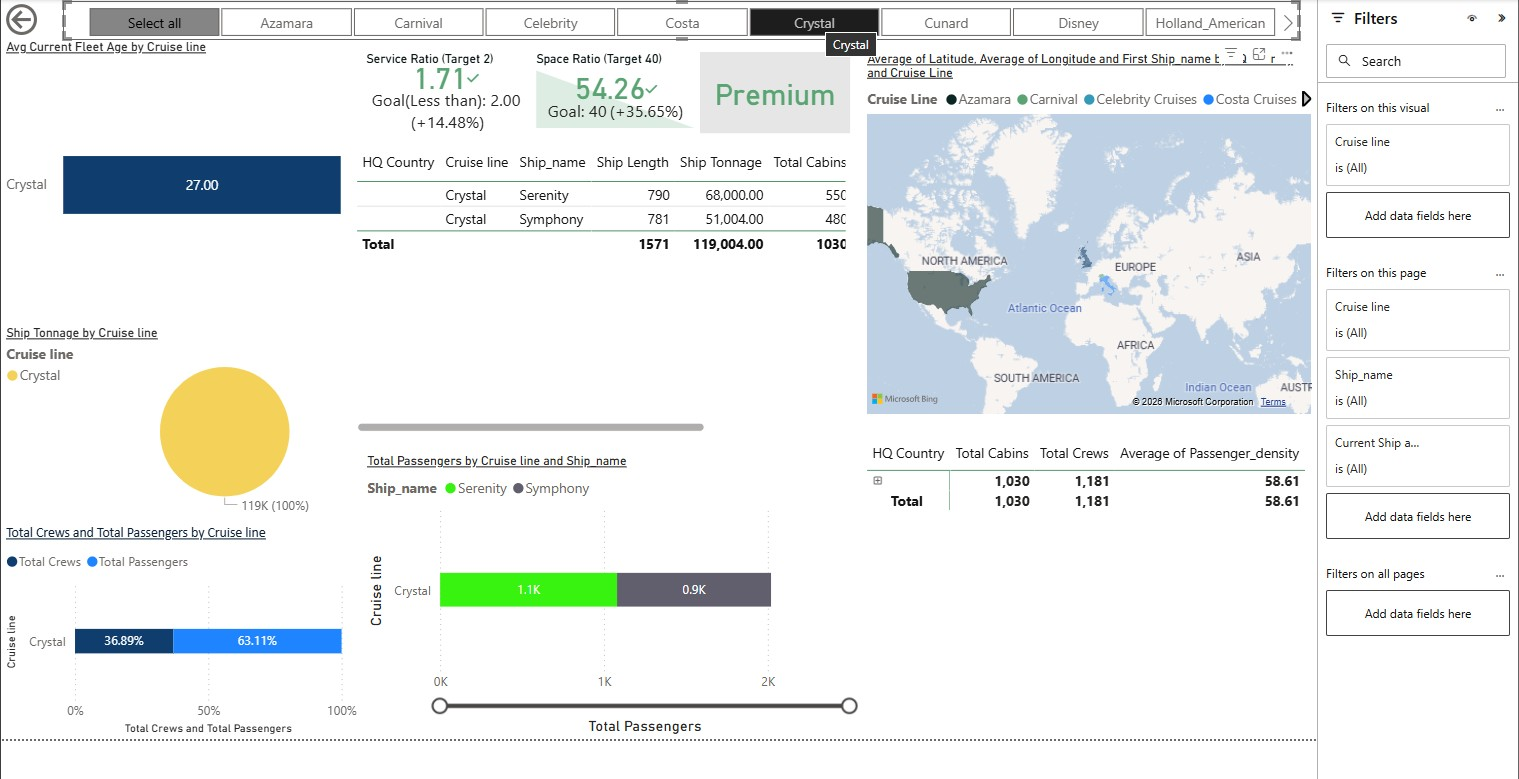

The dashboard page shown, as its layout file describes it:
{"tool":"powerbi","page":{"name":"Cruise line Dashboard","canvas":[1280,720],"ordinal":0},"visuals":[{"type":"barChart","fields":{"Category":["cruise_ship_info.Cruise_line"],"Y":["cruise_ship_info.Total Passengers"],"Series":["cruise_ship_info.Ship_name"]},"box":[351.1,442.6,486.3,277.2],"z":0},{"type":"pieChart","fields":{"Category":["cruise_ship_info.Cruise_line"],"Y":["cruise_ship_info.Ship Tonnage"]},"box":[0,318.1,351.1,192.6],"z":1000},{"type":"tableEx","fields":{"Values":["Cruise_HQ_Locations.HQ Country","cruise_ship_info.Cruise_line","cruise_ship_info.Ship_name","cruise_ship_info.Ship Length","cruise_ship_info.Ship Tonnage","cruise_ship_info.Total Cabins","cruise_ship_info.Total Crews","cruise_ship_info.Total Passengers"]},"box":[340.4,141,486.3,285],"z":2000},{"type":"funnel","fields":{"Category":["cruise_ship_info.Cruise_line"],"Y":["cruise_ship_info.Avg Current Fleet Age"]},"box":[0,39.9,340.4,268.4],"z":3000},{"type":"actionButton","box":[0,0,100,40],"z":4000},{"type":"hundredPercentStackedBarChart","fields":{"Category":["cruise_ship_info.Cruise_line"],"Y":["cruise_ship_info.Total Crews","cruise_ship_info.Total Passengers"]},"box":[0,510.4,351.3,209.2],"z":5000},{"type":"filledMap","fields":{"Y":["Avg(Cruise_HQ_Locations.Latitude)"],"X":["Avg(Cruise_HQ_Locations.Longitude)"],"Category":["Cruise_HQ_Locations.HQ Country"],"Series":["Cruise_HQ_Locations.Cruise Line"]},"box":[837.6,51.4,442.4,357],"z":6000},{"type":"pivotTable","fields":{"Rows":["Cruise_HQ_Locations.HQ Country","cruise_ship_info.Cruise line","cruise_ship_info.Ship_name"],"Values":["cruise_ship_info.Total Cabins","cruise_ship_info.Total Crews","Avg(cruise_ship_info.Passenger_density)"]},"box":[837.6,426,442.4,294.3],"z":7000},{"type":"kpi","title":"Service Ratio (Target 2)","fields":{"Indicator":["cruise_ship_info.Service Ratio"],"Goal":["cruise_ship_info.Service Target"],"TrendLine":["cruise_ship_info.Cruise line"]},"box":[349.8,51.4,165.7,79.2],"z":8000},{"type":"kpi","title":"Space Ratio (Target 40)","fields":{"Indicator":["cruise_ship_info.Space Ratio"],"TrendLine":["cruise_ship_info.Ship_name"],"Goal":["cruise_ship_info.Space Target"]},"box":[515.5,51.4,164.6,79.2],"z":9000},{"type":"card","fields":{"Values":["cruise_ship_info.Premium Status"]},"box":[679.9,51.6,145.9,78.8],"z":10000},{"type":"slicer","fields":{"Values":["cruise_ship_info.Cruise line"]},"box":[60.3,1.9,1203.2,37.9],"z":11000}]}

Visuals, with their boxes in screenshot pixels (x1, y1, x2, y2):
barChart - cruise_ship_info.Cruise_line x cruise_ship_info.Total Passengers: [left=361, top=416, right=862, bottom=701]
pieChart - cruise_ship_info.Cruise_line x cruise_ship_info.Ship Tonnage: [left=0, top=288, right=361, bottom=486]
tableEx - Cruise_HQ_Locations.HQ Country x cruise_ship_info.Cruise_line: [left=350, top=106, right=851, bottom=399]
funnel - cruise_ship_info.Cruise_line x cruise_ship_info.Avg Current Fleet Age: [left=0, top=2, right=350, bottom=278]
actionButton: [left=0, top=0, right=103, bottom=2]
hundredPercentStackedBarChart - cruise_ship_info.Cruise_line x cruise_ship_info.Total Crews: [left=0, top=486, right=362, bottom=701]
filledMap - Avg(Cruise_HQ_Locations.Latitude) x Avg(Cruise_HQ_Locations.Longitude): [left=862, top=13, right=1318, bottom=381]
pivotTable - Cruise_HQ_Locations.HQ Country x cruise_ship_info.Cruise line: [left=862, top=399, right=1318, bottom=702]
"Service Ratio (Target 2)" kpi: [left=360, top=13, right=531, bottom=95]
"Space Ratio (Target 40)" kpi: [left=531, top=13, right=700, bottom=95]
card - cruise_ship_info.Premium Status: [left=700, top=14, right=850, bottom=95]
slicer - cruise_ship_info.Cruise line: [left=62, top=0, right=1301, bottom=1]
